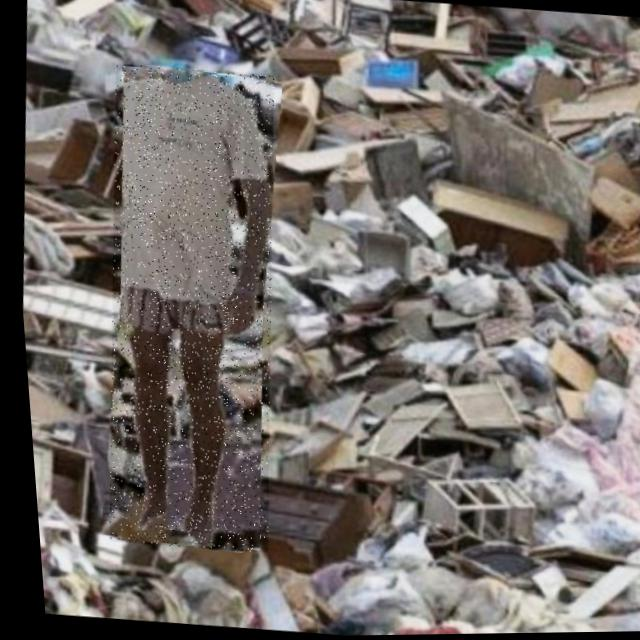Person in Rubble: (73, 61, 300, 555)
